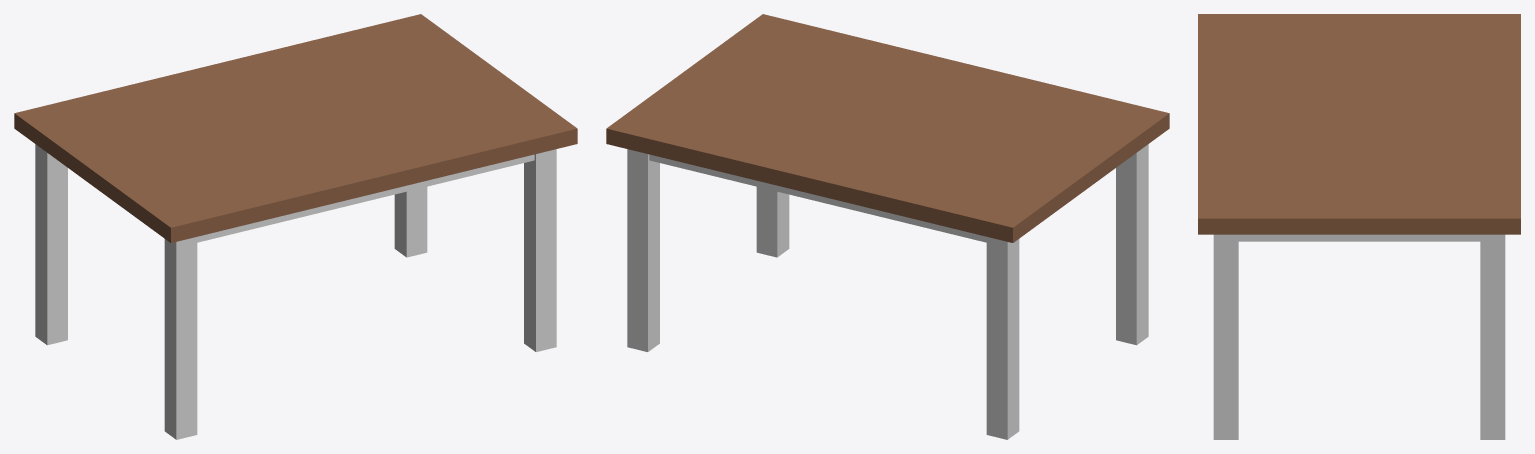
File: SmallTable_02_C3.fbx
The picture shows the model from 3 angles, left to right: view 1: azimuth 30°, elevation 25°; view 2: azimuth 150°, elevation 25°; view 3: azimuth 270°, elevation 25°; orthographic projection. The views are drawn at different scales.
Visible parts, largest first — view 1: SmallTable_02_C3; view 2: SmallTable_02_C3; view 3: SmallTable_02_C3.
Boxes of the visible parts, left/top/right/bottom form: SmallTable_02_C3: left=14, top=14, right=577, bottom=439; SmallTable_02_C3: left=606, top=14, right=1169, bottom=439; SmallTable_02_C3: left=1198, top=14, right=1520, bottom=439.
Bounding box in the file's own units: 86.52 × 44.93 × 57.68.
